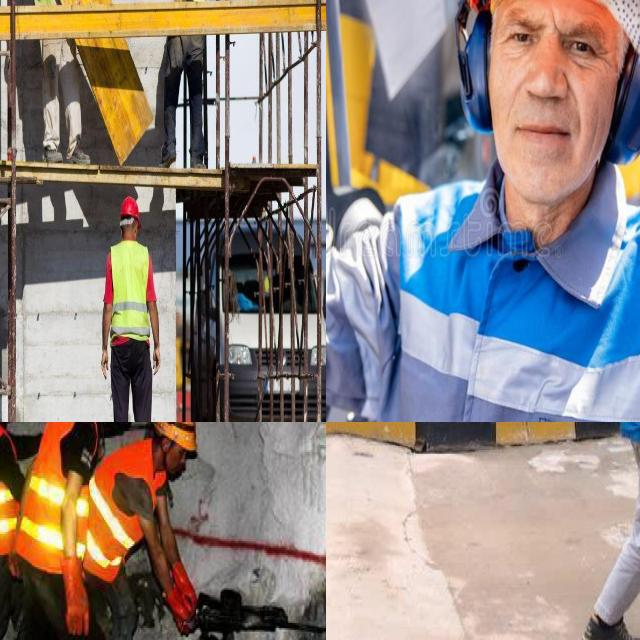Ear-protection: (455, 0, 640, 219)
No_Glasses: (494, 0, 601, 80)
boots: (582, 614, 640, 640)
face_nomask: (159, 431, 190, 484)
hand_glove: (56, 551, 98, 640), (170, 555, 201, 633)
hand_noglove: (97, 340, 111, 378), (150, 348, 163, 382)
head_helmet: (154, 422, 198, 445), (120, 196, 142, 217)
person: (326, 0, 640, 422), (15, 422, 135, 640), (92, 422, 195, 626), (576, 422, 640, 640), (109, 198, 158, 422), (23, 0, 92, 154), (169, 0, 216, 153), (0, 422, 29, 640)
vest: (26, 422, 91, 565), (87, 448, 162, 570), (110, 243, 158, 335), (0, 422, 17, 547)
